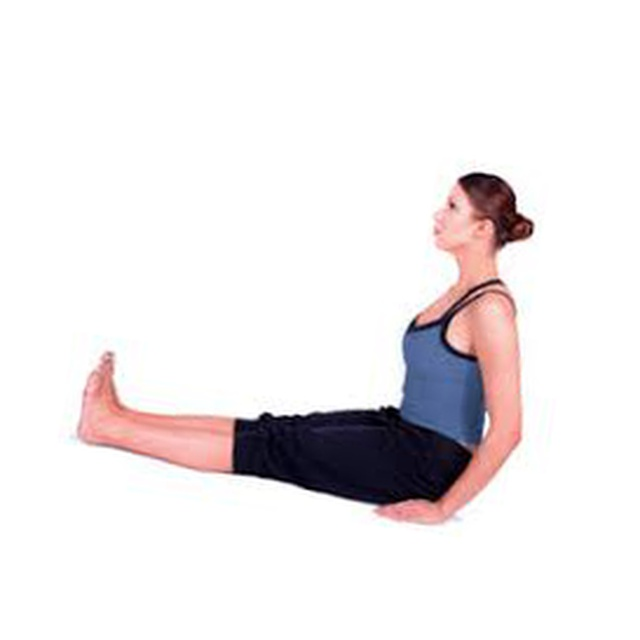Staff_Pose: (76, 171, 534, 526)
